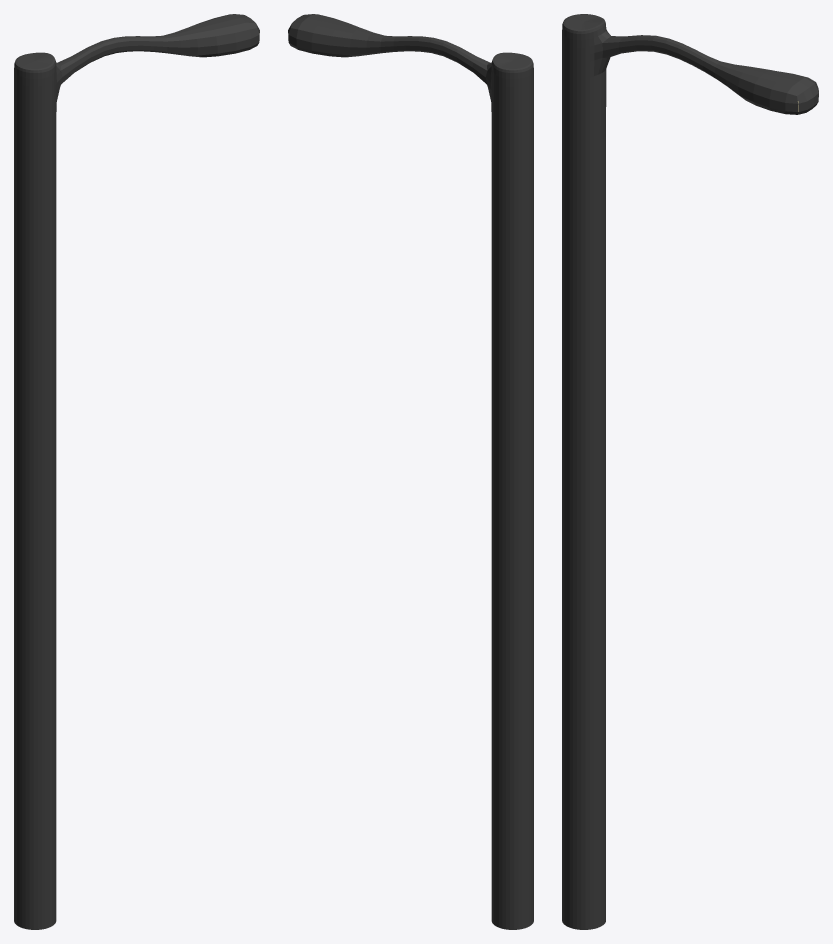
The model's file is street_light.glb.
The picture shows the model from 3 angles, left to right: view 1: azimuth 30°, elevation 25°; view 2: azimuth 150°, elevation 25°; view 3: azimuth 330°, elevation 25°; orthographic projection. The views are drawn at different scales.
Parts seen in each view (by area): view 1: street_light; view 2: street_light; view 3: street_light.
Part boxes in pixels (x1,y1,x2,y2): street_light: (14, 14, 259, 929); street_light: (288, 14, 533, 929); street_light: (562, 14, 818, 929).
Size of what is drawn, in the model's own units: 1.16 by 4.02 by 0.2013.
1 material, 1 textured.
